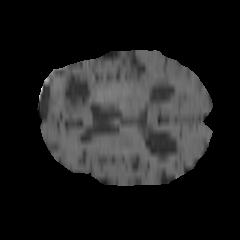glioma: (60, 68, 112, 122)
